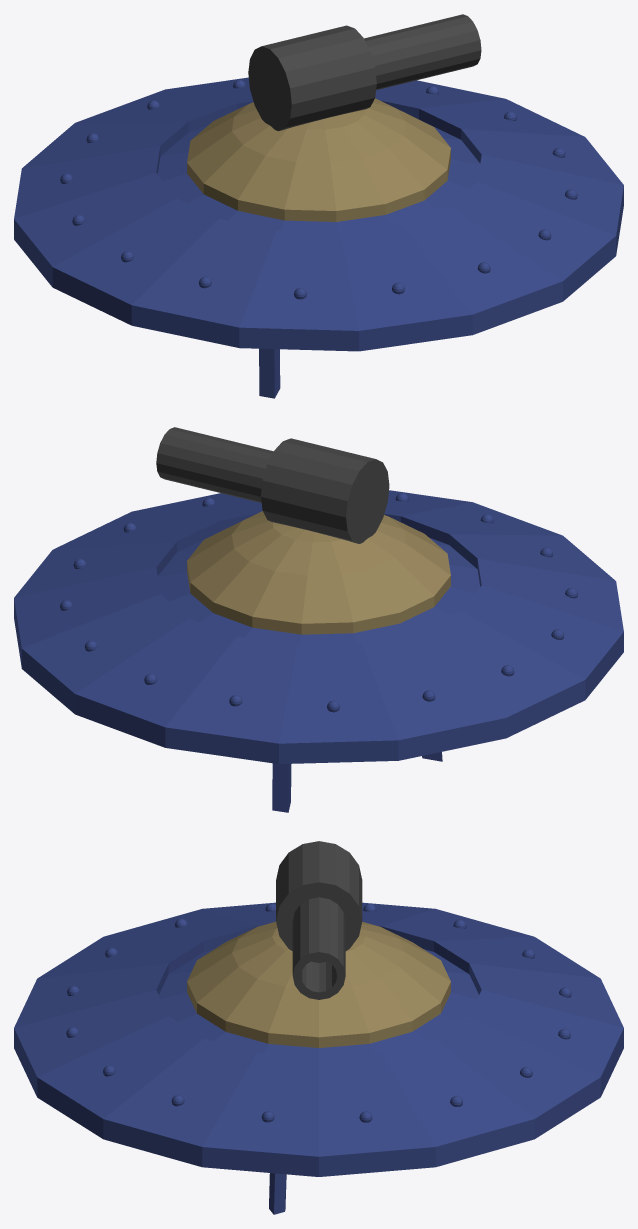
The model's file is ke dich4.fbx.
3 renders of one model, top to bottom at view 1: azimuth 30°, elevation 25°; view 2: azimuth 150°, elevation 25°; view 3: azimuth 270°, elevation 25°, orthographic.
Visible parts, largest first — view 1: Circle.001; view 2: Circle.001; view 3: Circle.001.
Part boxes in pixels (bbox=[...]): Circle.001: bbox=[14, 14, 623, 398]; Circle.001: bbox=[14, 427, 623, 812]; Circle.001: bbox=[14, 841, 623, 1214].
Bounding box in the file's own units: 1414 × 793 × 1414.
